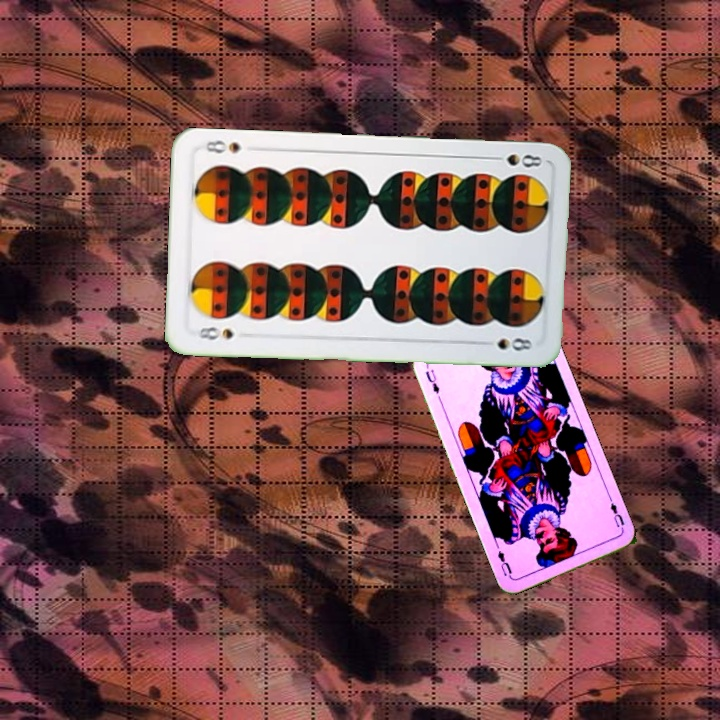EU: (606, 495, 627, 534), (421, 365, 442, 397)
S8: (486, 147, 545, 170), (189, 322, 236, 342)
